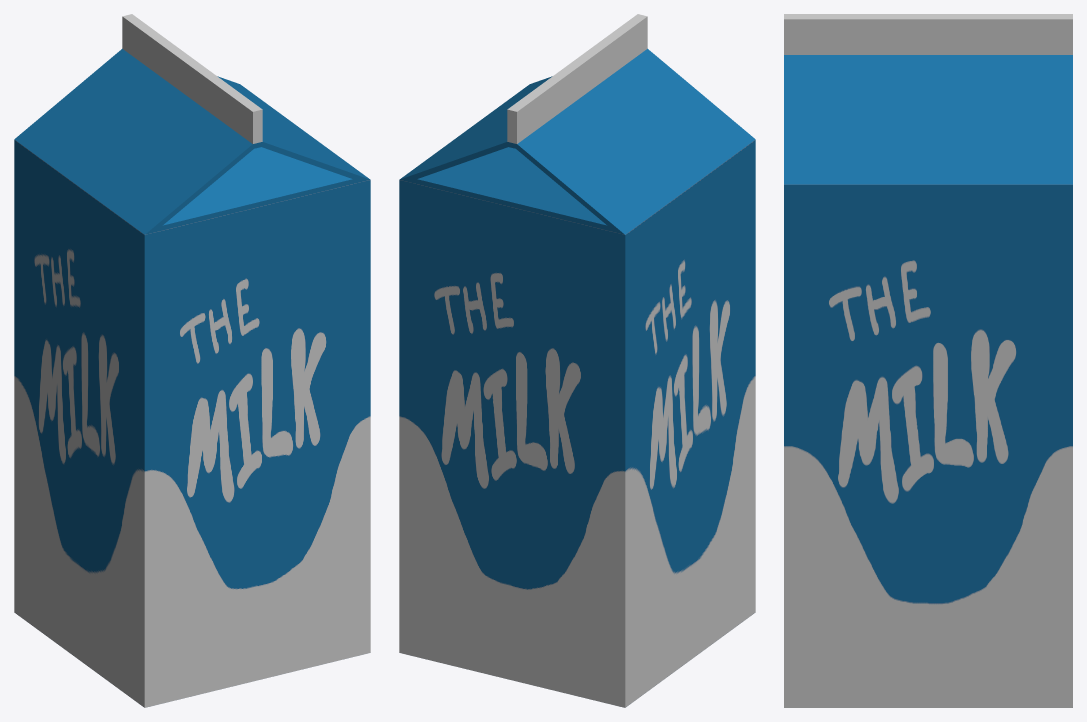
Rendered from MilkBox.glb.
The picture shows the model from 3 angles, left to right: view 1: azimuth 30°, elevation 25°; view 2: azimuth 150°, elevation 25°; view 3: azimuth 270°, elevation 25°; orthographic projection. The views are drawn at different scales.
Parts seen in each view (by area): view 1: MilkBox; view 2: MilkBox; view 3: MilkBox.
Part boxes in pixels (left/top/right/bottom): MilkBox: left=14, top=14, right=370, bottom=707; MilkBox: left=399, top=14, right=755, bottom=707; MilkBox: left=784, top=14, right=1072, bottom=707.
Bounding box in the file's own units: 1 × 2.41 × 1.
Materials: 1 (1 with a texture image).
